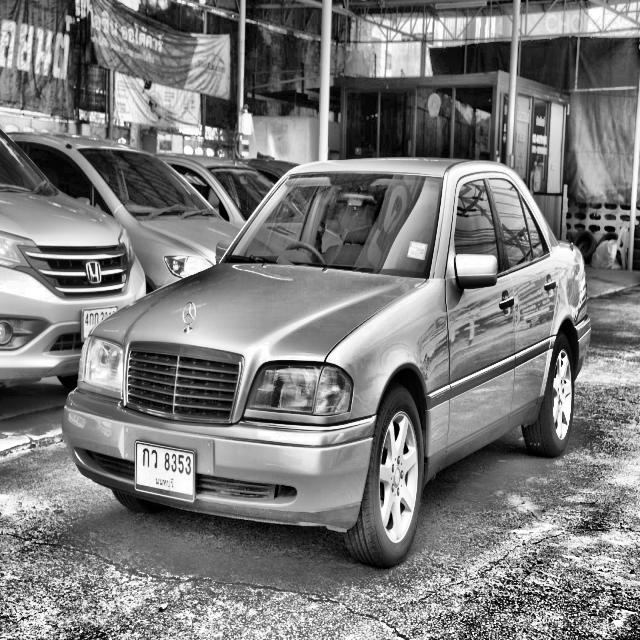license-plate: (130, 436, 198, 506)
